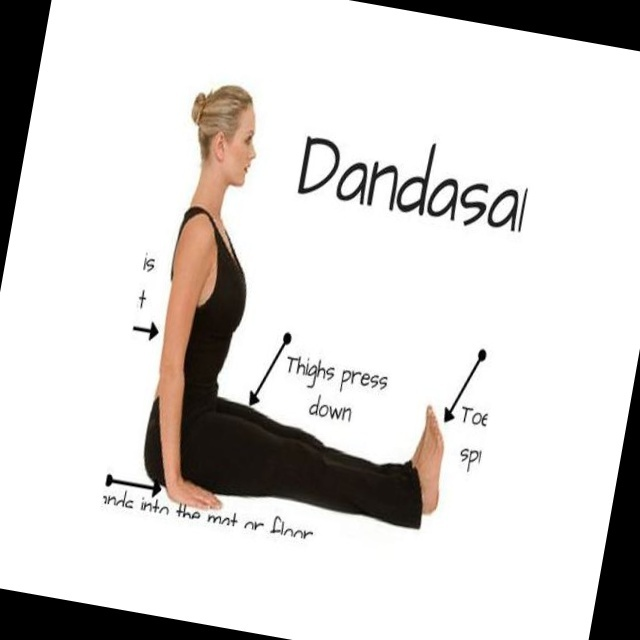Staff_Pose: (144, 85, 444, 532)
